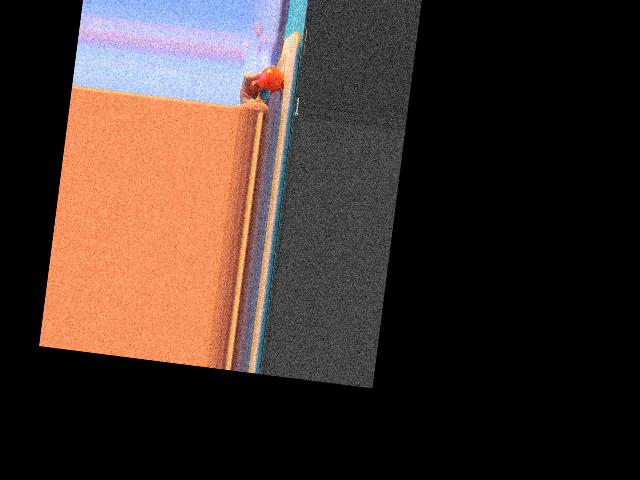tomato: (257, 64, 285, 93)
